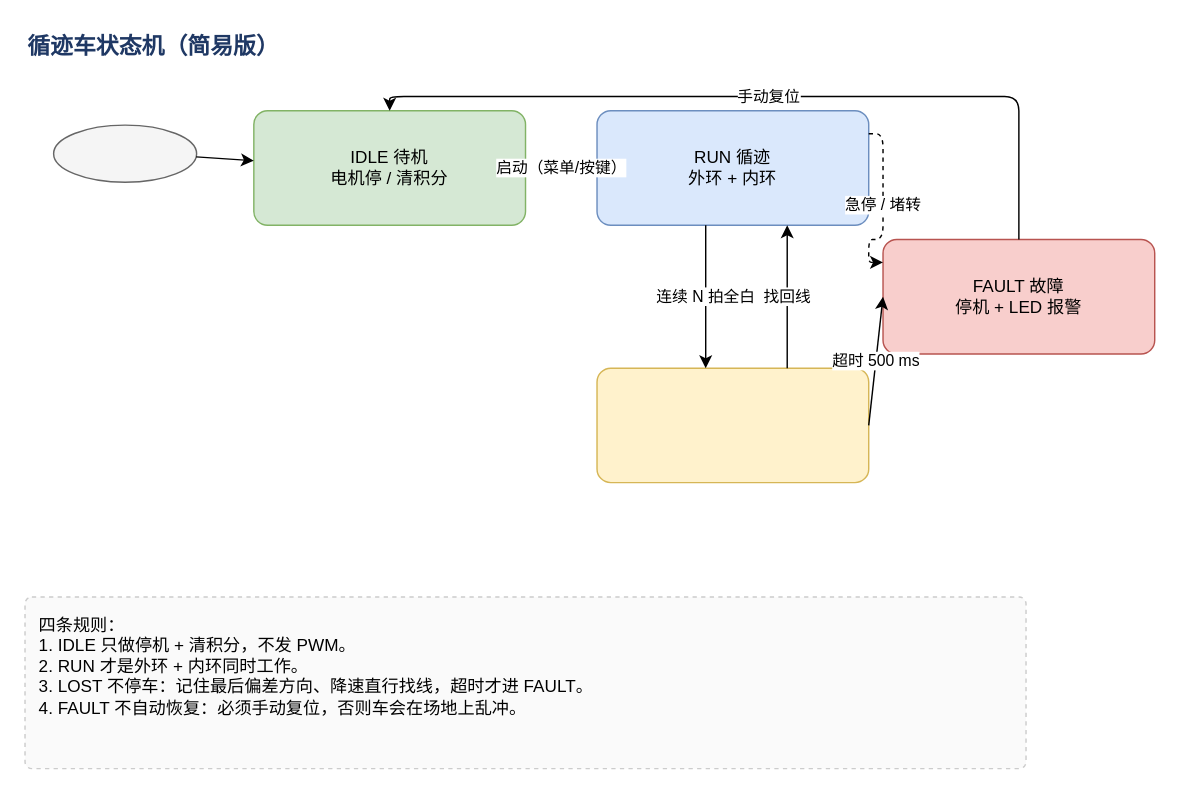
The diagram is 1180 pixels wide and 794 high, and some of its shapes have lost their labels. The centre of each missing label's shape, as x and y in pixels:
LOST 丢线 降速直行找线: pixel 732 425
上电: pixel 124 153
